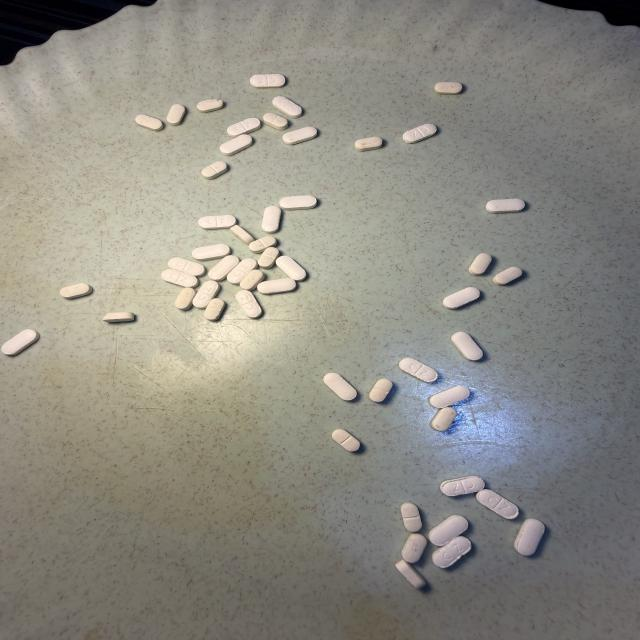pill: (476, 489, 518, 519), (428, 515, 468, 546), (432, 537, 471, 568), (515, 519, 544, 555), (2, 330, 39, 355), (399, 358, 437, 382), (451, 332, 483, 360), (429, 386, 469, 408), (440, 476, 484, 496), (396, 560, 426, 589), (324, 373, 356, 400), (443, 287, 479, 309), (227, 259, 257, 284), (236, 290, 262, 318), (220, 134, 253, 156), (402, 534, 427, 563), (209, 256, 239, 280), (276, 256, 306, 280), (168, 258, 205, 277), (193, 281, 219, 308), (161, 269, 198, 287), (227, 118, 261, 137), (403, 124, 436, 143), (431, 407, 457, 431), (332, 429, 360, 451), (283, 127, 317, 145), (273, 97, 302, 118), (401, 503, 422, 532), (258, 278, 296, 294), (192, 244, 230, 260), (486, 199, 525, 213), (369, 379, 392, 402), (493, 267, 522, 285), (199, 215, 236, 229), (280, 196, 317, 210), (262, 206, 281, 233), (60, 283, 92, 299), (469, 254, 492, 275), (240, 270, 264, 290), (202, 161, 228, 179), (175, 288, 196, 310), (204, 298, 225, 320), (249, 236, 276, 253), (230, 225, 254, 244), (250, 74, 285, 87), (136, 115, 163, 131), (263, 113, 288, 130), (258, 248, 279, 268), (355, 137, 382, 151), (167, 104, 185, 125), (197, 99, 223, 112), (435, 82, 462, 94), (103, 312, 135, 322)
